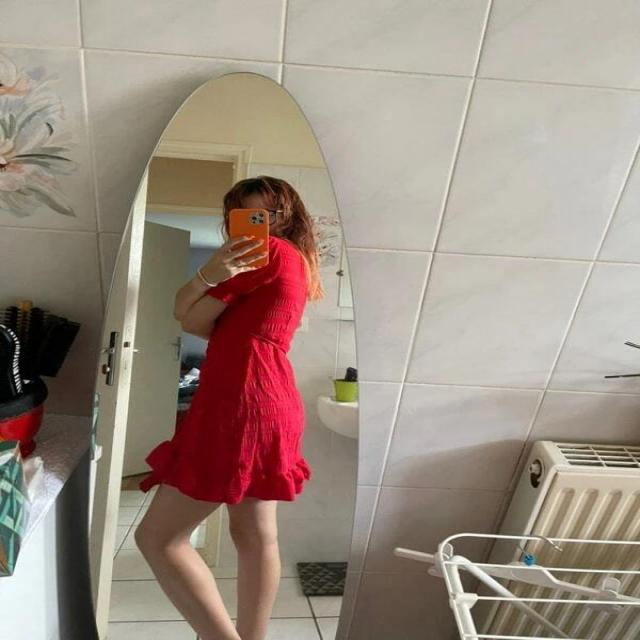clothes: (143, 240, 335, 518)
